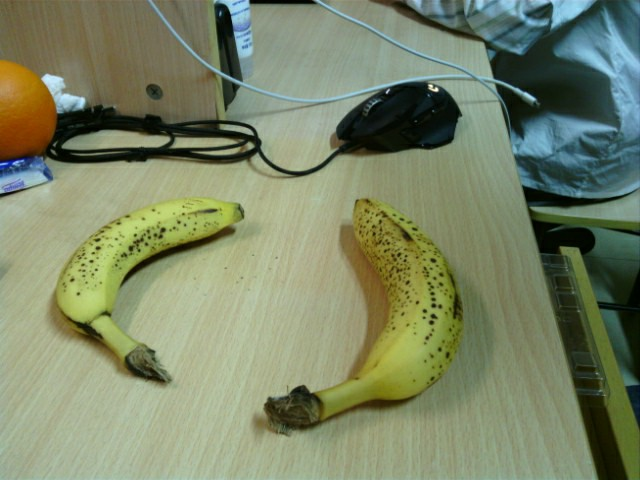normal_banana: (264, 197, 463, 429), (55, 197, 245, 388)
